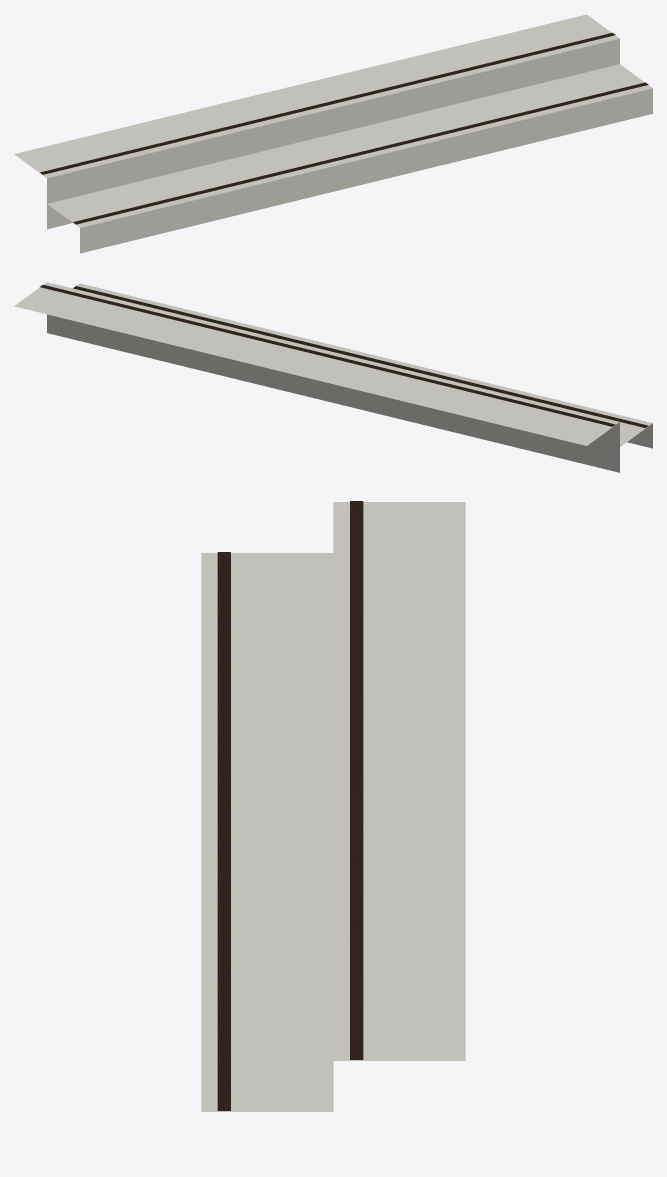
Rendered from threshold.glb.
3 views of the same model, one above another, from view 1: azimuth 30°, elevation 25°; view 2: azimuth 150°, elevation 25°; view 3: azimuth 270°, elevation 25° (orthographic). The views are drawn at different scales.
Parts seen in each view (by area): view 1: threshold; view 2: threshold; view 3: threshold.
Part boxes in pixels (x1=…): threshold: x1=14, y1=14, x2=652, y2=253; threshold: x1=14, y1=282, x2=652, y2=472; threshold: x1=201, y1=501, x2=465, y2=1111.
Size of the model in its own units: 4 by 0.343 by 0.8.
2 materials, 1 textured.
